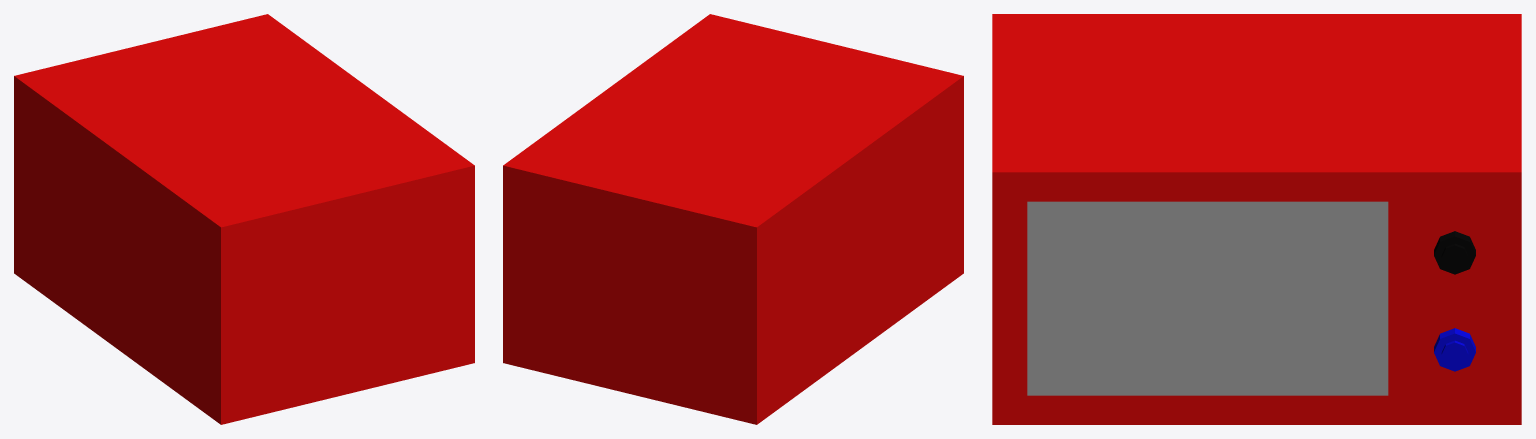
File: OVEN.fbx
3 renders of one model, left to right at view 1: azimuth 30°, elevation 25°; view 2: azimuth 150°, elevation 25°; view 3: azimuth 270°, elevation 25°, orthographic. The views are drawn at different scales.
Parts seen in each view (by area): view 1: pCube8; view 2: pCube8; view 3: pCube8.
Boxes of the visible parts, x1=… form: pCube8: x1=14, y1=14, x2=474, y2=424; pCube8: x1=503, y1=14, x2=963, y2=424; pCube8: x1=992, y1=14, x2=1521, y2=424.
Bounding box in the file's own units: 38.14 × 27.09 × 51.48.
